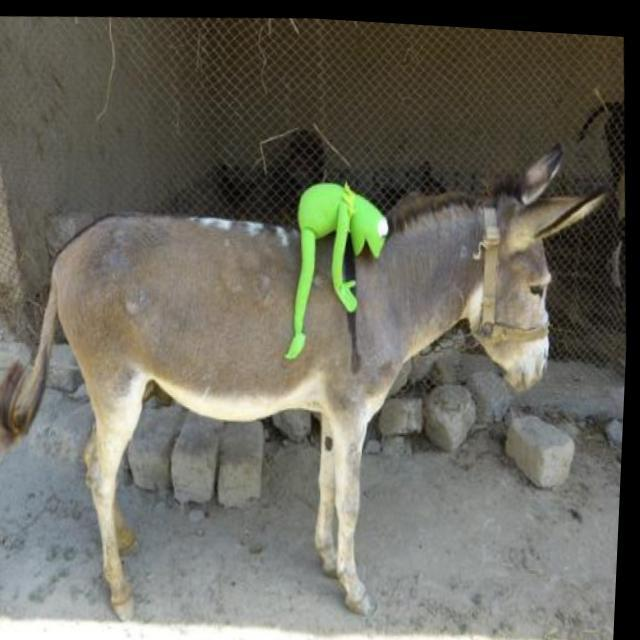Donkey: (0, 106, 635, 640)
